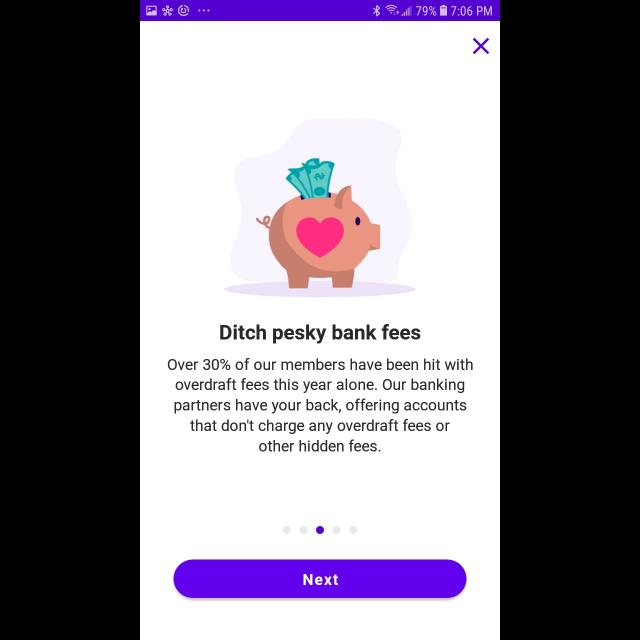icon: (472, 37, 490, 54)
image: (224, 118, 416, 298)
pageindicator: (283, 526, 357, 534)
text: (168, 358, 472, 452), (220, 324, 420, 344)
textbutton: (174, 560, 466, 598)
uppertaskbar: (140, 1, 500, 22)
